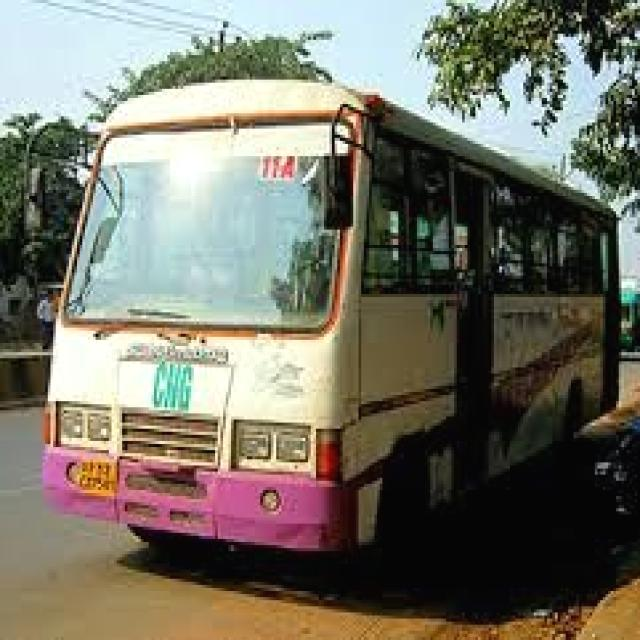bus: (38, 69, 640, 562)
